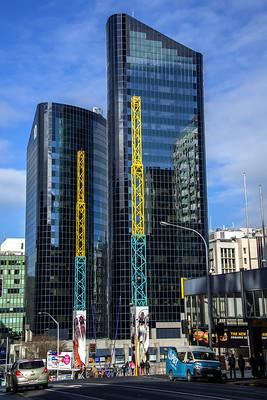building: (103, 12, 211, 354), (21, 99, 108, 372)
